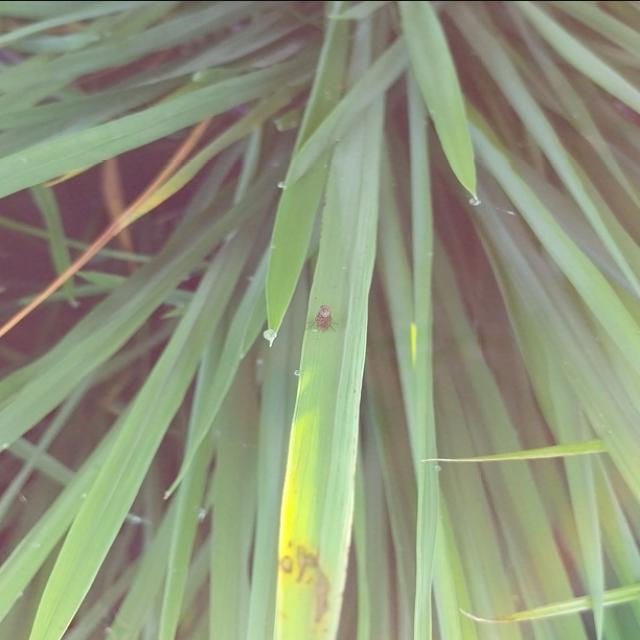Wereng: (302, 288, 345, 342)
